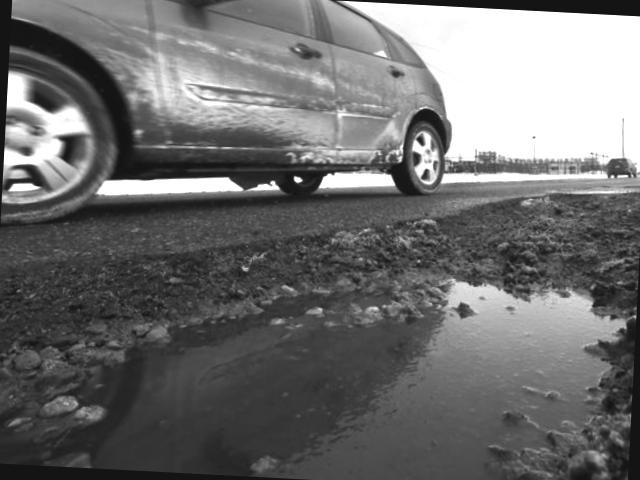Pothole: (1, 164, 636, 480)
